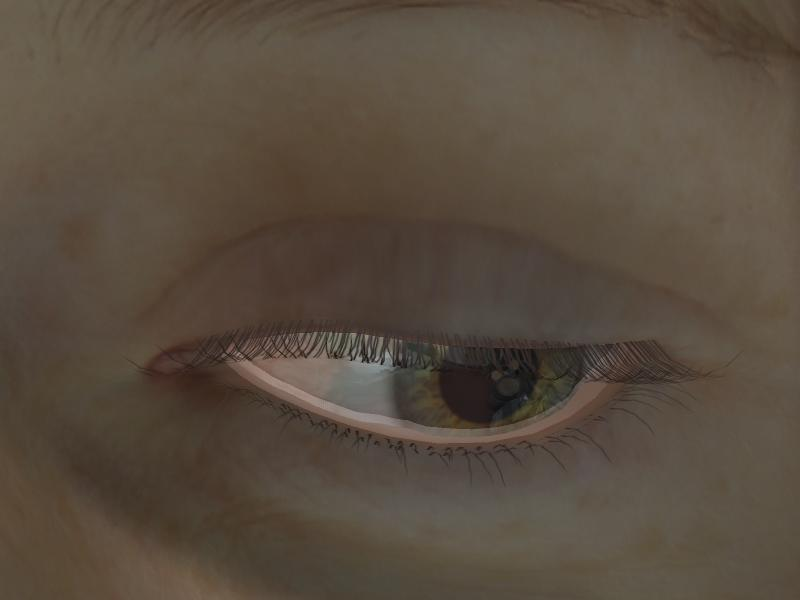eye: (394, 337, 579, 429)
